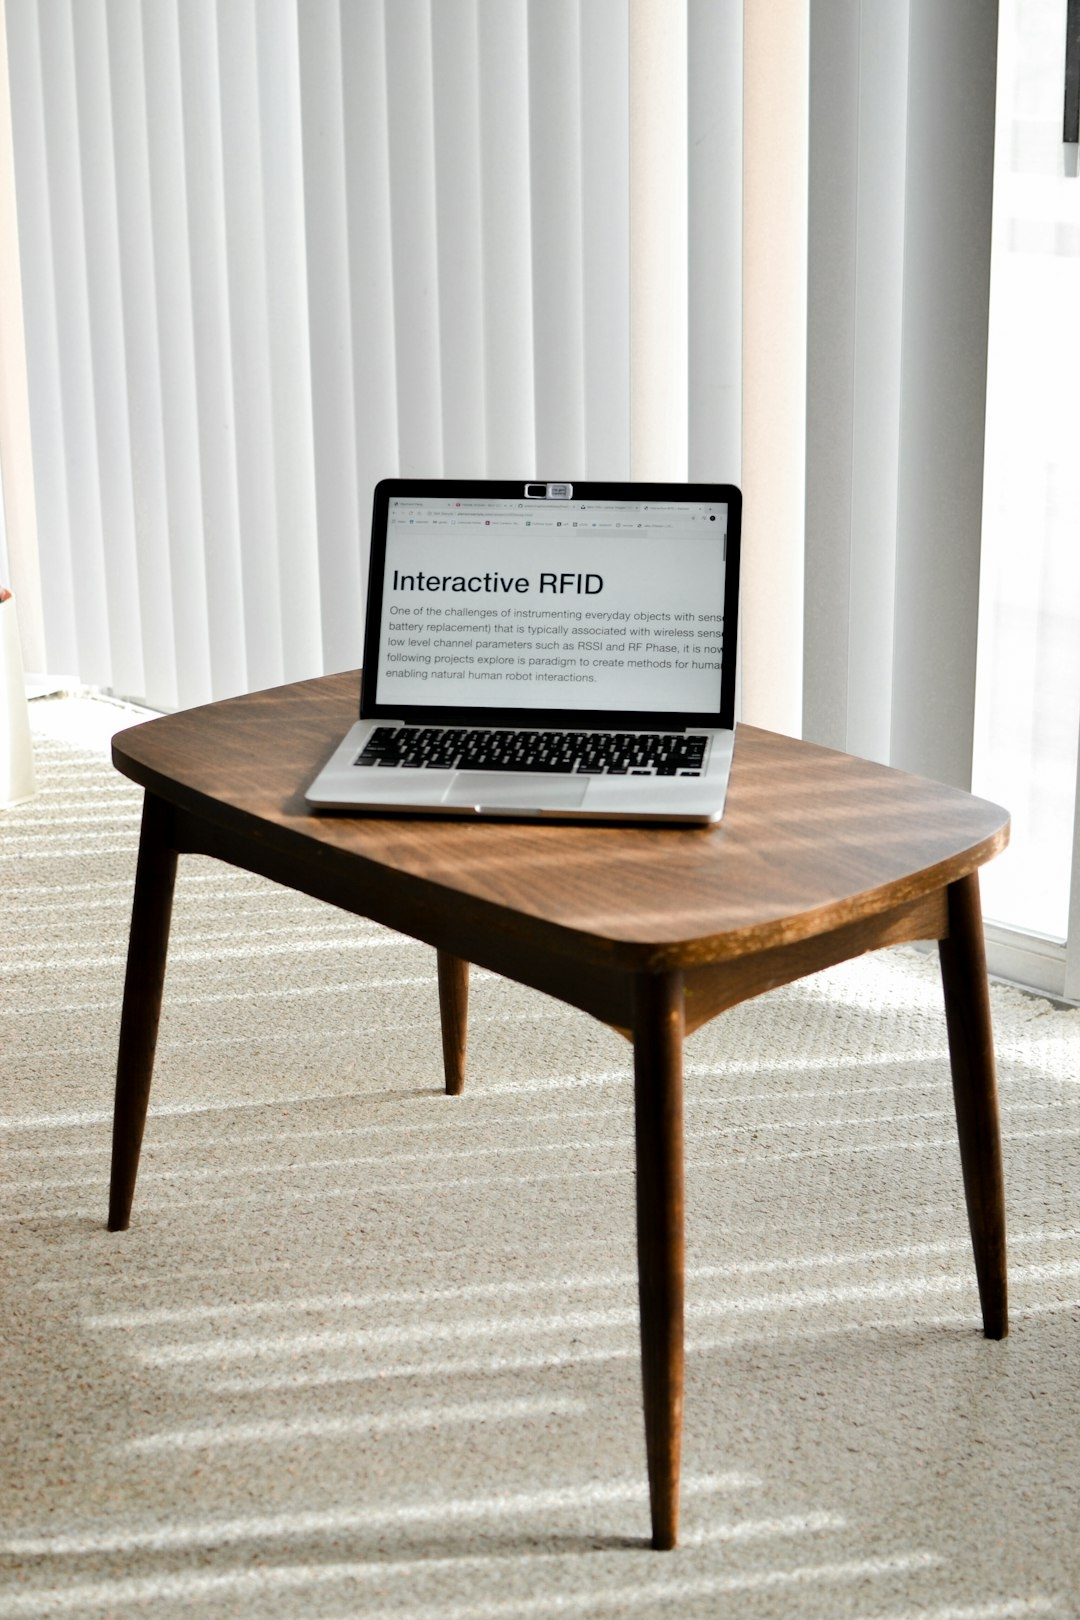laptop: (283, 452, 798, 850)
